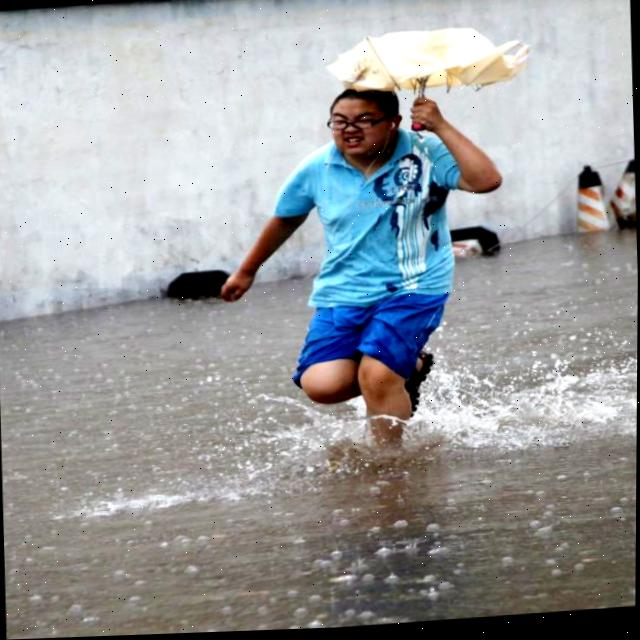civilian: (201, 55, 526, 481)
